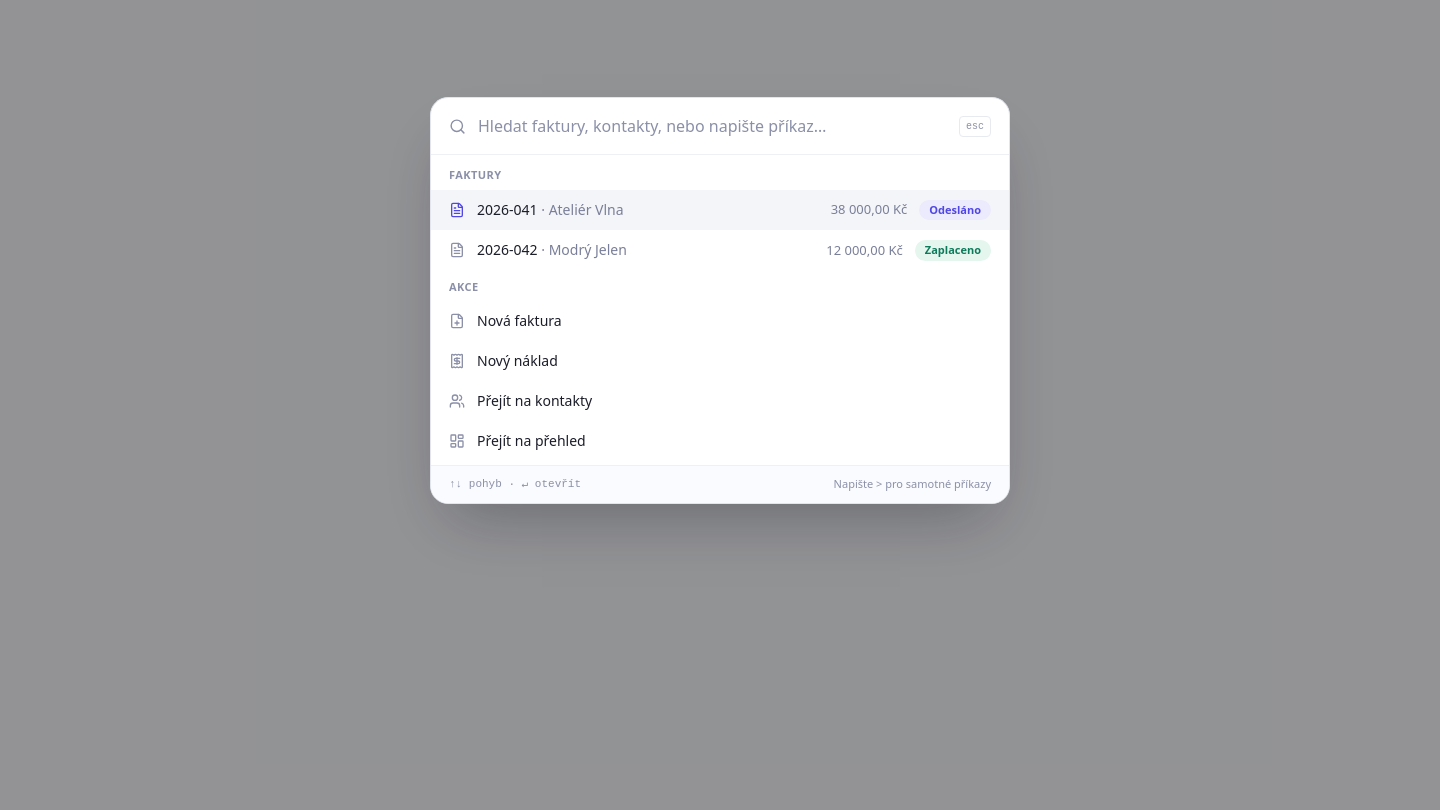
Test: CommandPalette › filters invoices and contacts by query
Expected: the text "2026-041 · Ateliér Vlna" is shown, [477,200,624,219]
In the field: (712, 126) [478,114,947,138], type "jelen"
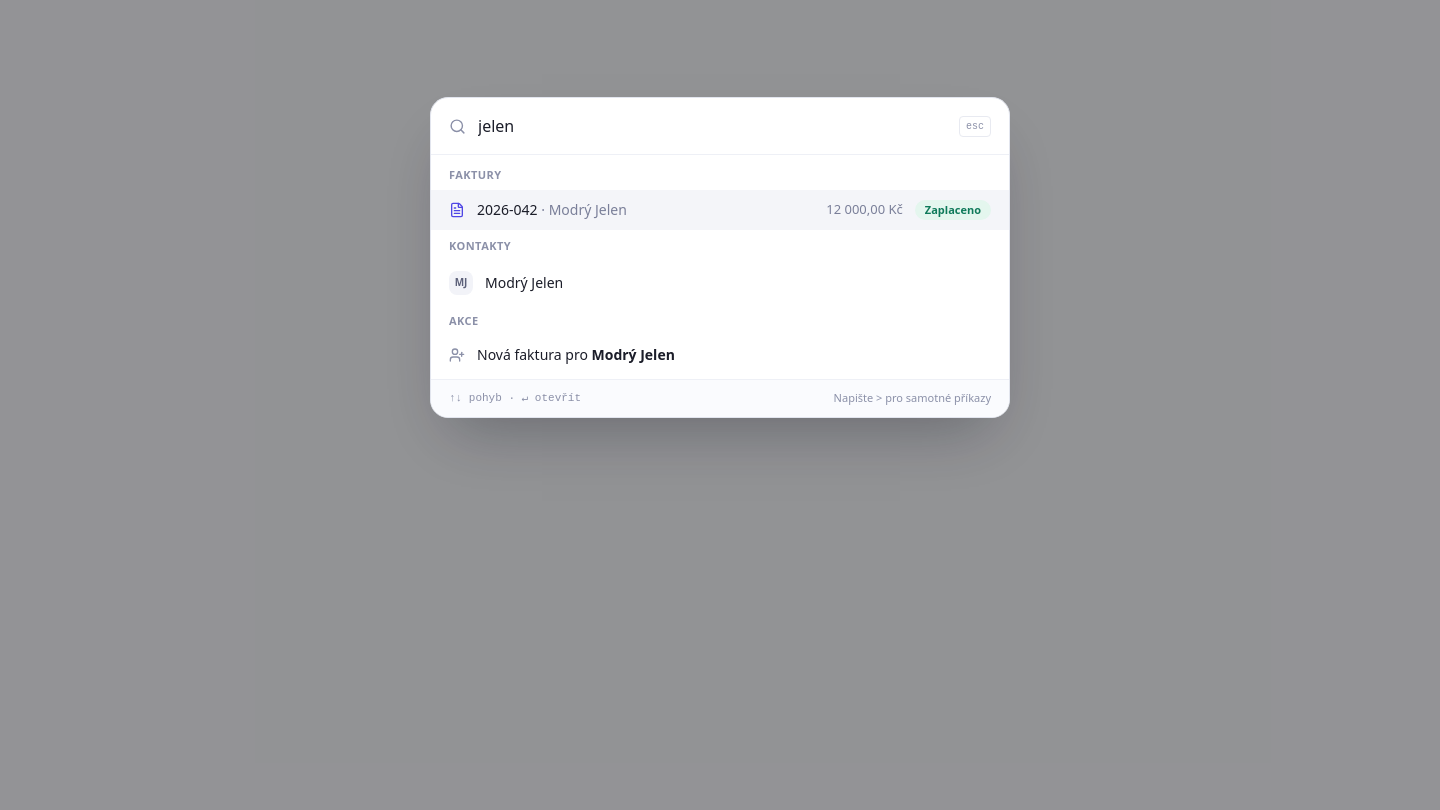
Expected: the text "2026-042 · Modrý Jelen" is shown, [477,200,627,219]
Result: the text "2026-041" is gone
